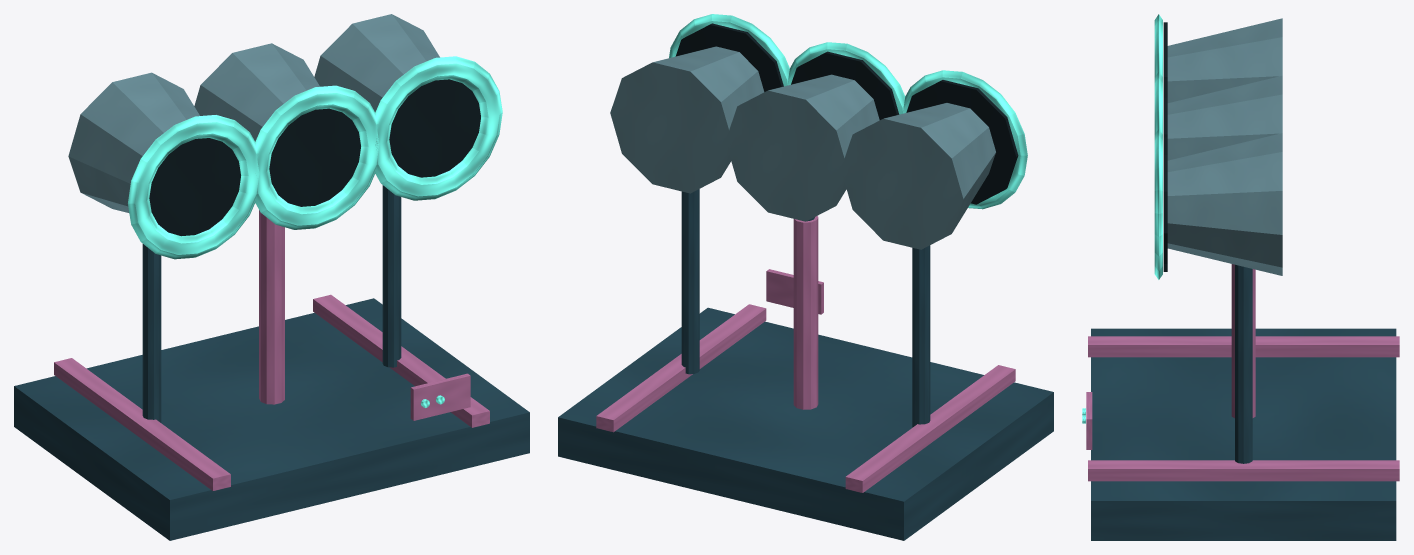
File: atlas100-s066-a01.glb
3 views of the same model, side by side, from view 1: azimuth 30°, elevation 25°; view 2: azimuth 150°, elevation 25°; view 3: azimuth 270°, elevation 25° (orthographic). The views are drawn at different scales.
Visible parts, largest first — view 1: atlas100-s066-a01:part-000, atlas100-s066-a01:part-006, atlas100-s066-a01:part-008, atlas100-s066-a01:part-016, atlas100-s066-a01:part-012, atlas100-s066-a01:part-007, atlas100-s066-a01:part-011, atlas100-s066-a01:part-015, atlas100-s066-a01:part-014, atlas100-s066-a01:part-010, atlas100-s066-a01:part-001, atlas100-s066-a01:part-003 (+4 smaller); view 2: atlas100-s066-a01:part-000, atlas100-s066-a01:part-006, atlas100-s066-a01:part-014, atlas100-s066-a01:part-010, atlas100-s066-a01:part-003, atlas100-s066-a01:part-001, atlas100-s066-a01:part-002, atlas100-s066-a01:part-007, atlas100-s066-a01:part-013, atlas100-s066-a01:part-005, atlas100-s066-a01:part-008, atlas100-s066-a01:part-011 (+4 smaller); view 3: atlas100-s066-a01:part-000, atlas100-s066-a01:part-014, atlas100-s066-a01:part-002, atlas100-s066-a01:part-010, atlas100-s066-a01:part-006, atlas100-s066-a01:part-001, atlas100-s066-a01:part-013, atlas100-s066-a01:part-016, atlas100-s066-a01:part-003, atlas100-s066-a01:part-015, atlas100-s066-a01:part-012, atlas100-s066-a01:part-008 (+1 smaller).
Part boxes in pixels (x1=…): atlas100-s066-a01:part-000: x1=14, y1=298, x2=529, y2=540; atlas100-s066-a01:part-006: x1=68, y1=72, x2=199, y2=212; atlas100-s066-a01:part-008: x1=128, y1=115, x2=259, y2=259; atlas100-s066-a01:part-016: x1=375, y1=56, x2=502, y2=200; atlas100-s066-a01:part-012: x1=255, y1=85, x2=379, y2=229; atlas100-s066-a01:part-007: x1=149, y1=138, x2=240, y2=236; atlas100-s066-a01:part-011: x1=269, y1=108, x2=360, y2=206; atlas100-s066-a01:part-015: x1=389, y1=79, x2=480, y2=177; atlas100-s066-a01:part-014: x1=314, y1=14, x2=439, y2=112; atlas100-s066-a01:part-010: x1=194, y1=43, x2=319, y2=141; atlas100-s066-a01:part-001: x1=54, y1=358, x2=230, y2=490; atlas100-s066-a01:part-003: x1=259, y1=210, x2=284, y2=404; atlas100-s066-a01:part-000: x1=558, y1=307, x2=1053, y2=540; atlas100-s066-a01:part-006: x1=842, y1=103, x2=995, y2=249; atlas100-s066-a01:part-014: x1=610, y1=46, x2=764, y2=193; atlas100-s066-a01:part-010: x1=726, y1=74, x2=879, y2=221; atlas100-s066-a01:part-003: x1=793, y1=216, x2=818, y2=409; atlas100-s066-a01:part-001: x1=845, y1=365, x2=1015, y2=492; atlas100-s066-a01:part-002: x1=596, y1=304, x2=766, y2=432; atlas100-s066-a01:part-007: x1=906, y1=80, x2=1018, y2=204; atlas100-s066-a01:part-013: x1=681, y1=189, x2=699, y2=374; atlas100-s066-a01:part-005: x1=912, y1=245, x2=930, y2=427; atlas100-s066-a01:part-008: x1=903, y1=70, x2=1027, y2=209; atlas100-s066-a01:part-011: x1=791, y1=51, x2=899, y2=119; atlas100-s066-a01:part-000: x1=1091, y1=328, x2=1396, y2=540; atlas100-s066-a01:part-014: x1=1167, y1=133, x2=1282, y2=275; atlas100-s066-a01:part-002: x1=1088, y1=460, x2=1399, y2=481; atlas100-s066-a01:part-010: x1=1167, y1=75, x2=1282, y2=160; atlas100-s066-a01:part-006: x1=1167, y1=18, x2=1282, y2=102; atlas100-s066-a01:part-001: x1=1088, y1=336, x2=1399, y2=357; atlas100-s066-a01:part-013: x1=1235, y1=264, x2=1252, y2=463; atlas100-s066-a01:part-016: x1=1154, y1=129, x2=1162, y2=279; atlas100-s066-a01:part-003: x1=1231, y1=264, x2=1255, y2=418; atlas100-s066-a01:part-015: x1=1163, y1=137, x2=1167, y2=271; atlas100-s066-a01:part-012: x1=1154, y1=71, x2=1162, y2=134; atlas100-s066-a01:part-008: x1=1154, y1=14, x2=1162, y2=76.
Size of the model in its own units: 2.5 by 2.45 by 1.87.
5 materials, 5 textured.
